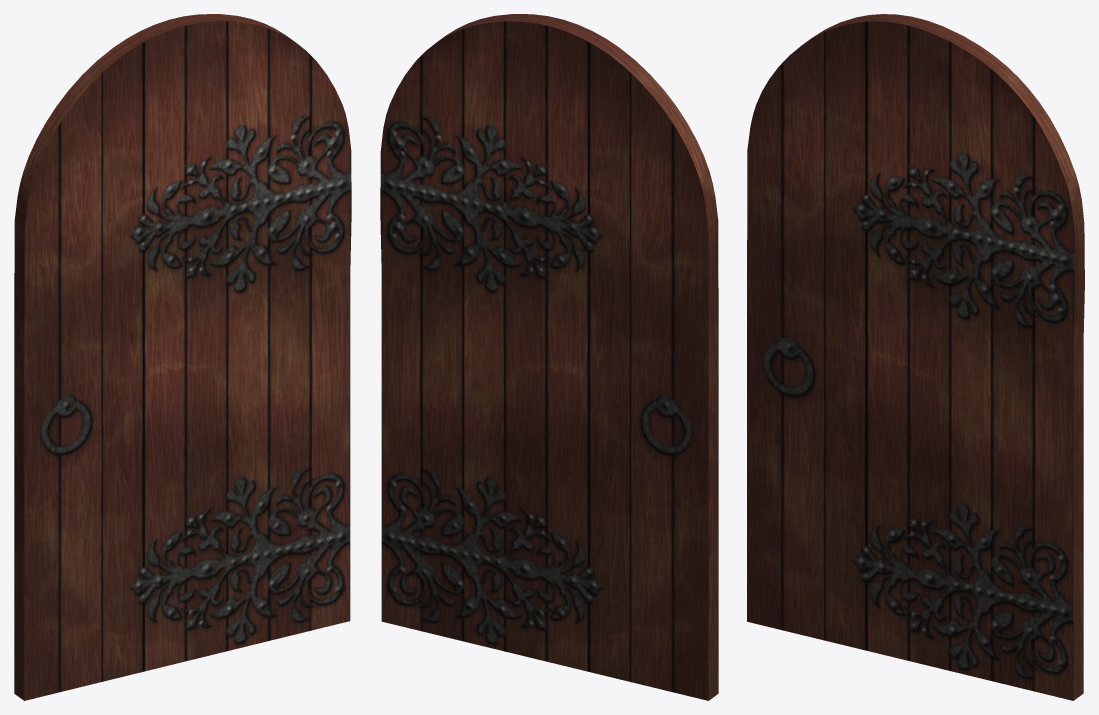
The model's file is door 1.obj.
The picture shows the model from 3 angles, left to right: view 1: azimuth 30°, elevation 25°; view 2: azimuth 150°, elevation 25°; view 3: azimuth 330°, elevation 25°; orthographic projection.
Visible parts, largest first — view 1: door_10:Mesh; view 2: door_10:Mesh; view 3: door_10:Mesh.
Part boxes in pixels (x1,y1,x2,y2): door_10:Mesh: (14,14,351,700); door_10:Mesh: (380,14,718,700); door_10:Mesh: (747,14,1084,700).
Size of the model in its own units: 64.66 by 120 by 3.58.
Materials: 1 (1 with a texture image).
